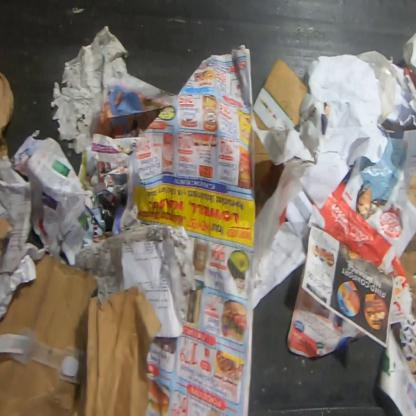cardboard: (0, 251, 163, 415), (252, 59, 307, 132), (254, 131, 284, 222), (399, 235, 416, 320)
